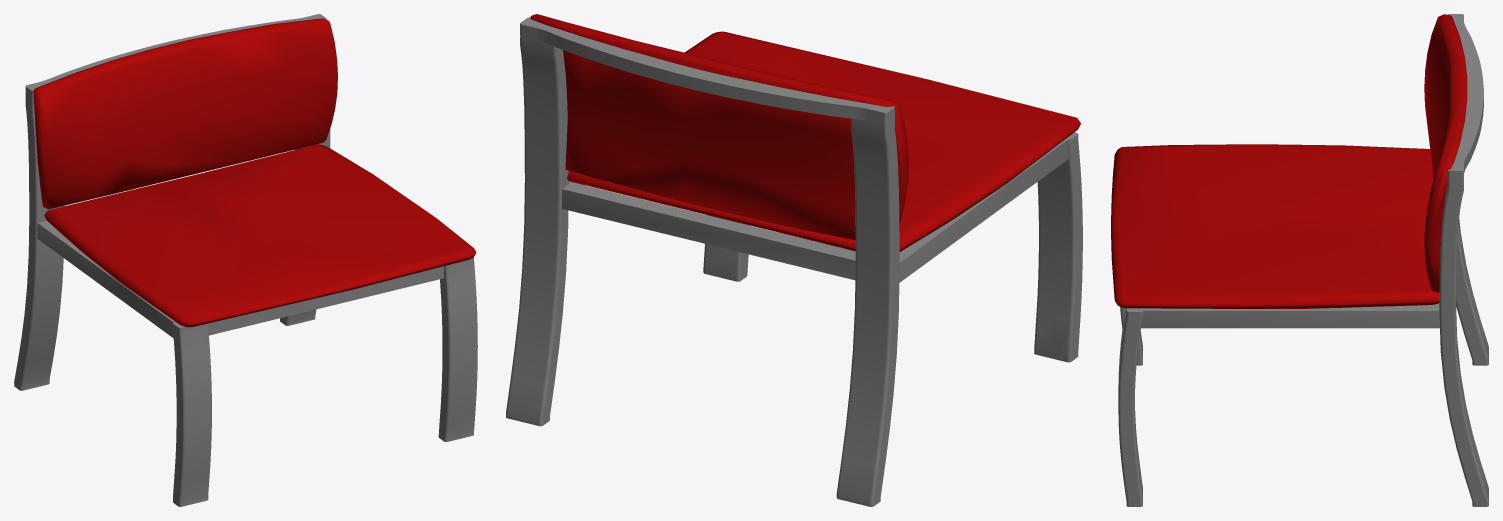
File: sh-lp-sedia.glb
The picture shows the model from 3 angles, left to right: view 1: azimuth 30°, elevation 25°; view 2: azimuth 150°, elevation 25°; view 3: azimuth 270°, elevation 25°; orthographic projection. The views are drawn at different scales.
Visible parts, largest first — view 1: ChamferBox07_7, Loft03_1; view 2: ChamferBox07_7, Loft03_1; view 3: ChamferBox07_7, Loft03_1.
Boxes of the visible parts, <box> form: ChamferBox07_7: <box>33,18,476,327</box>; Loft03_1: <box>14,14,477,506</box>; ChamferBox07_7: <box>530,14,1080,251</box>; Loft03_1: <box>506,17,1082,506</box>; ChamferBox07_7: <box>1111,14,1467,308</box>; Loft03_1: <box>1118,14,1488,506</box>.
Bounding box in the file's own units: 1 × 1 × 1.
